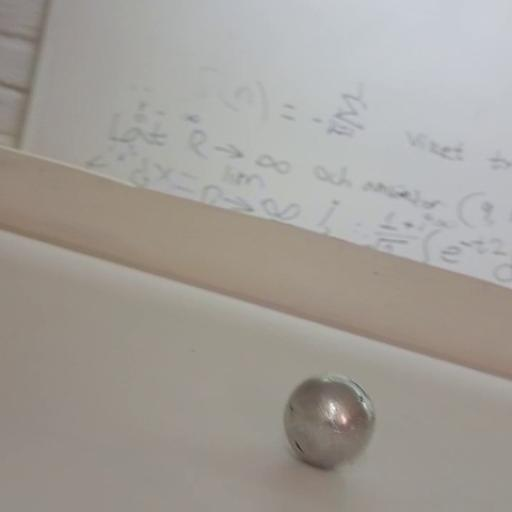alive: (280, 368, 376, 474)
